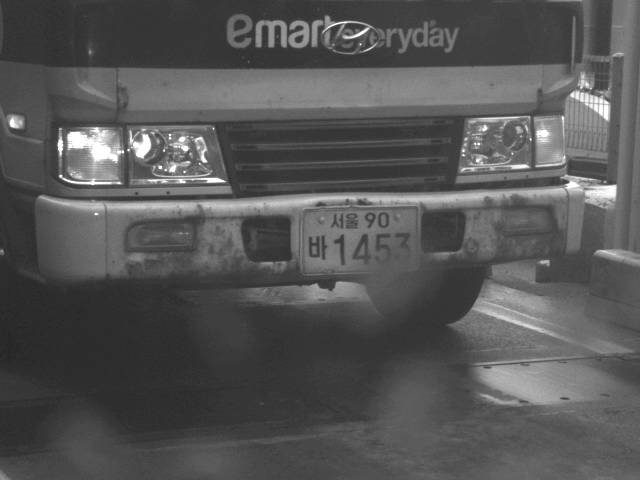car: (1, 1, 584, 342)
plate: (300, 207, 420, 271)
